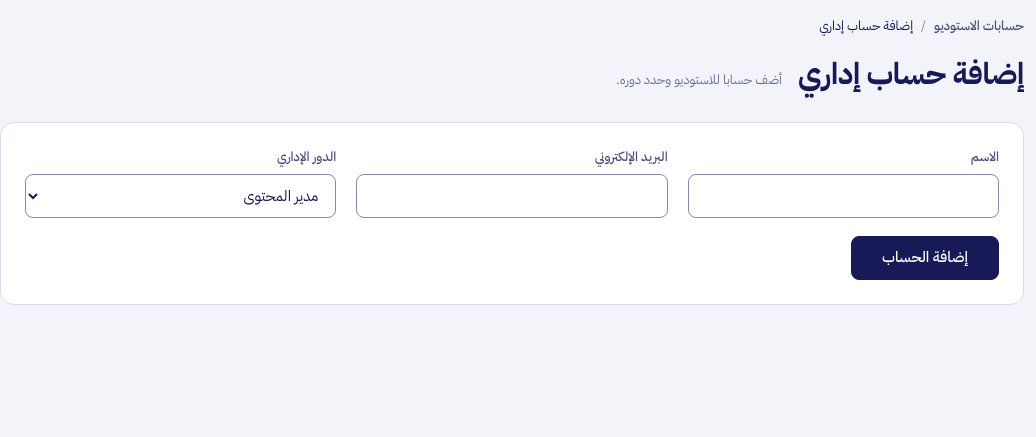
Test case: Studio account pages › creates a Studio account with a real Studio role and shows local credentials
In the field labelled "الاسم": (843, 196) [688,174,999,218], type "  سارة الحربي  "
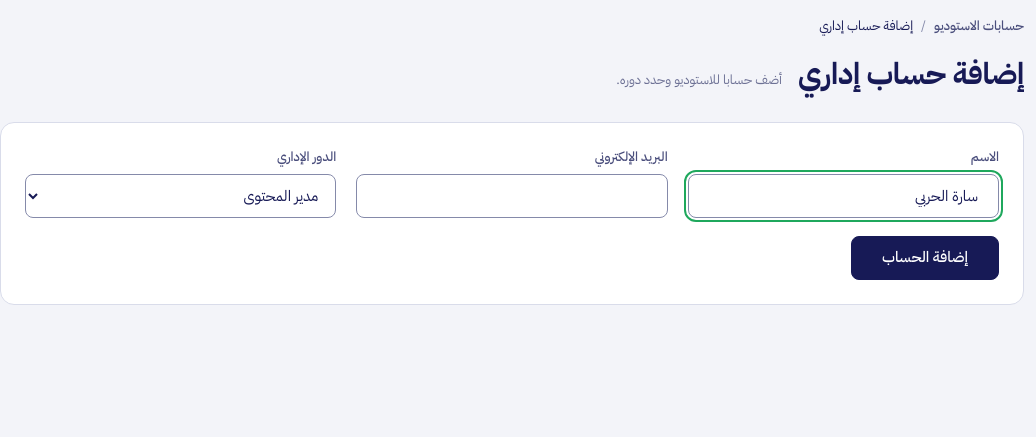
In the field labelled "البريد الإلكتروني": (512, 196) [356,174,668,218], type "SARAH@EXAMPLE.COM"
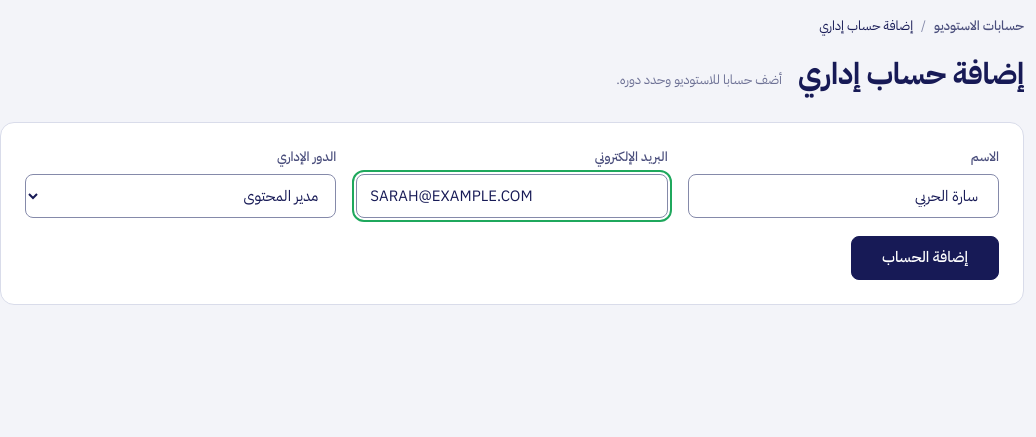
Select "مدير المحتوى" in the dropdown labelled "الدور الإداري": (181, 196) [25,174,336,218]
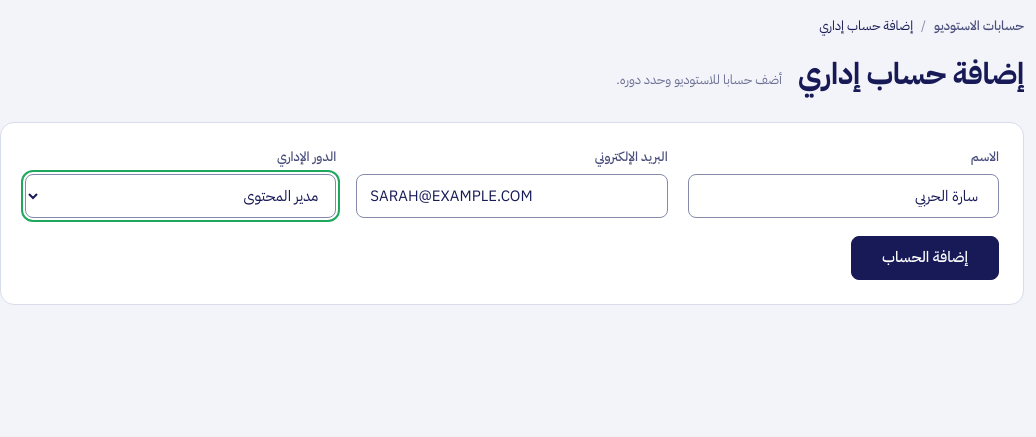
Click the button "إضافة الحساب": (925, 258) [851,236,999,280]
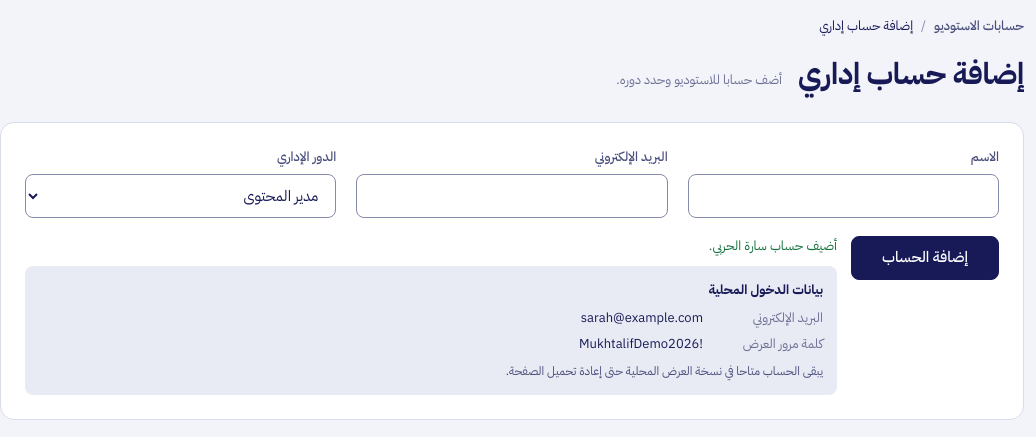
expect the text "أضيف حساب سارة الحربي." is shown: met, box [709,236,837,255]
expect the text "MukhtalifDemo2026!" is shown: met, box [579,334,703,353]
